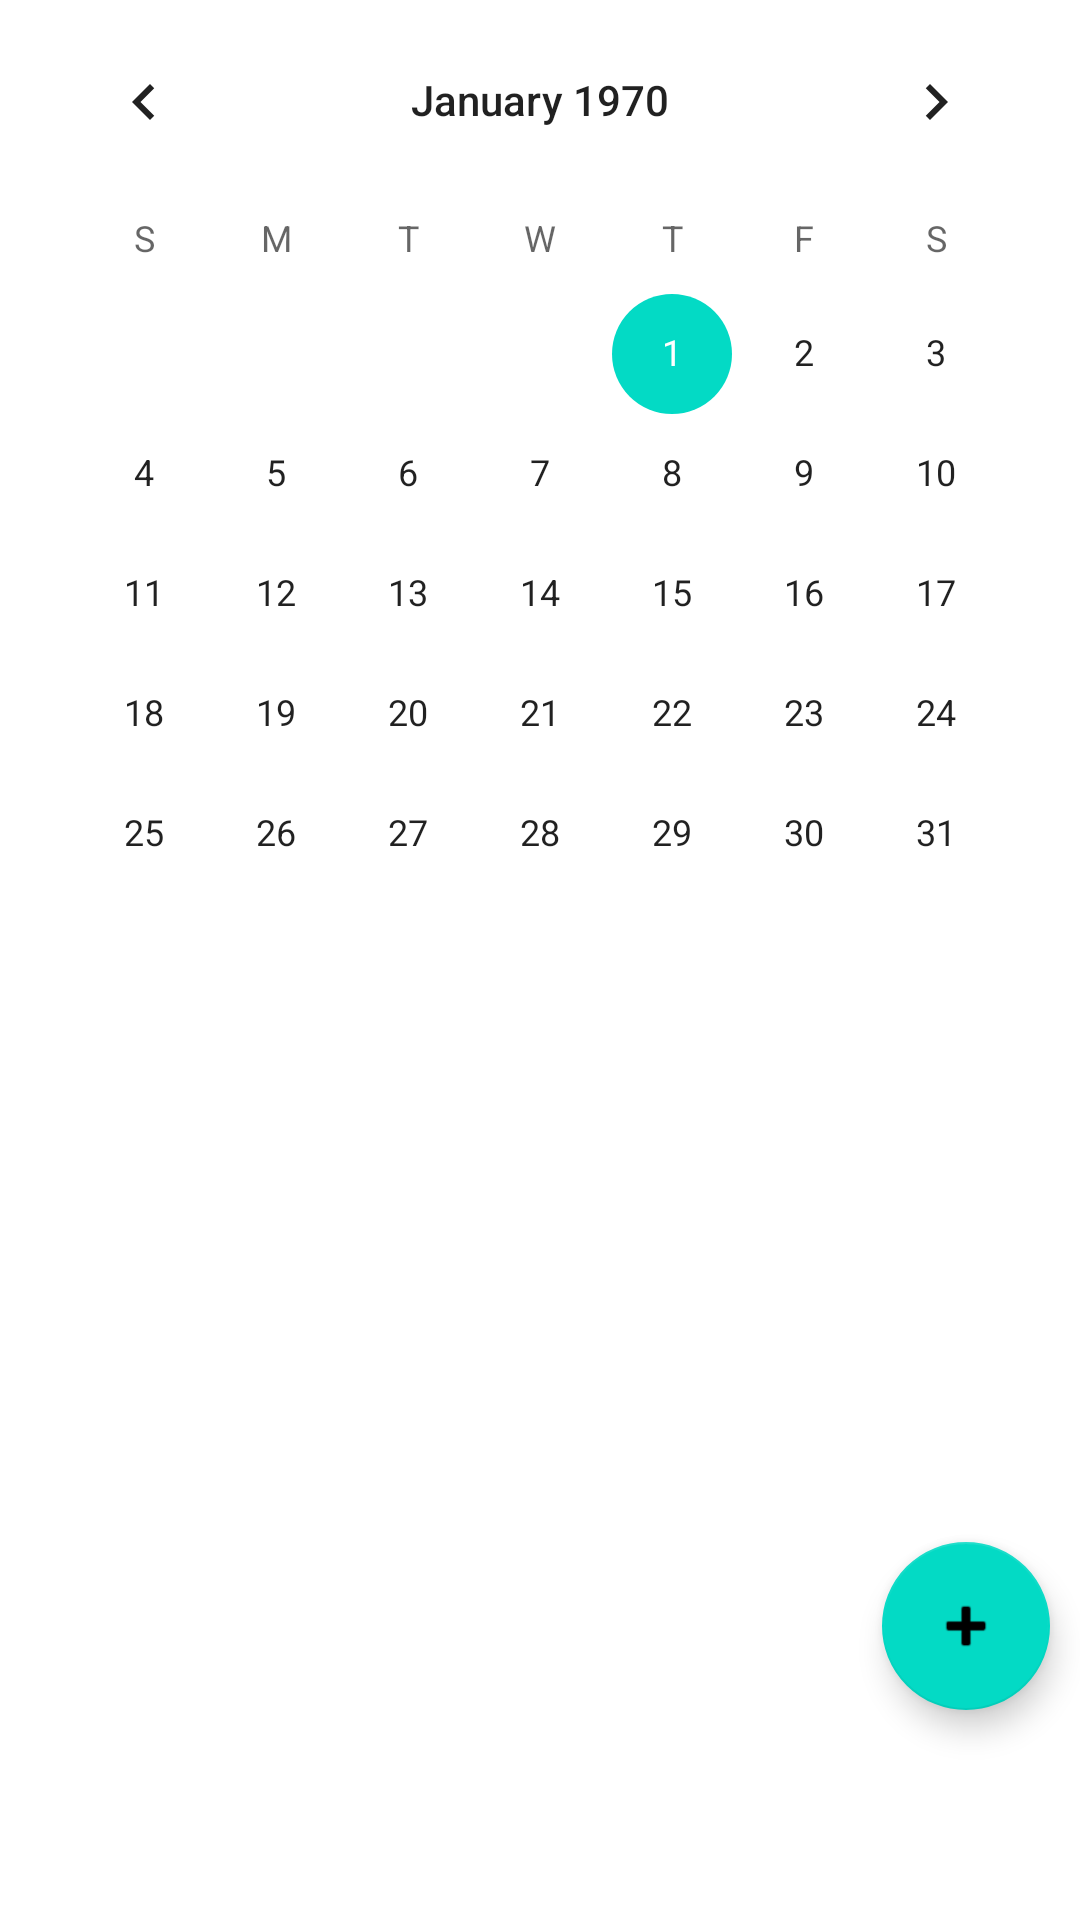

Screen size 1080 × 1920. Icon name, then its center in pixels as (x=x, y=y):
add: (x=966, y=1626)
